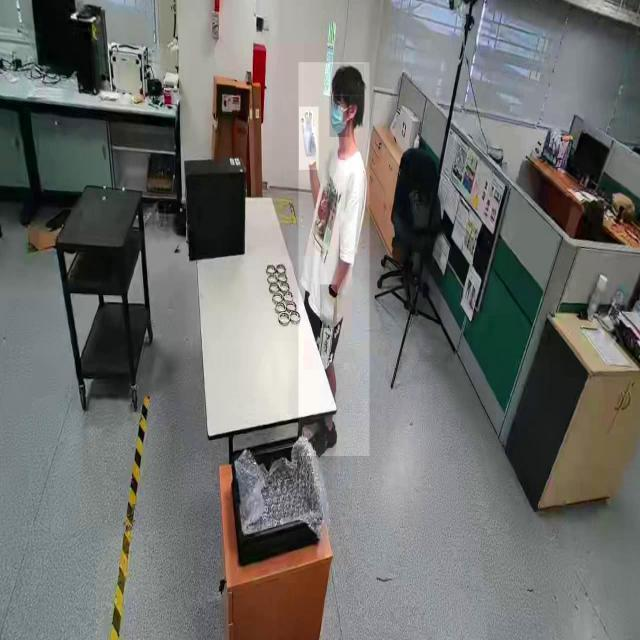boots: (304, 421, 340, 456)
gloves: (299, 106, 319, 170), (320, 284, 338, 329)
